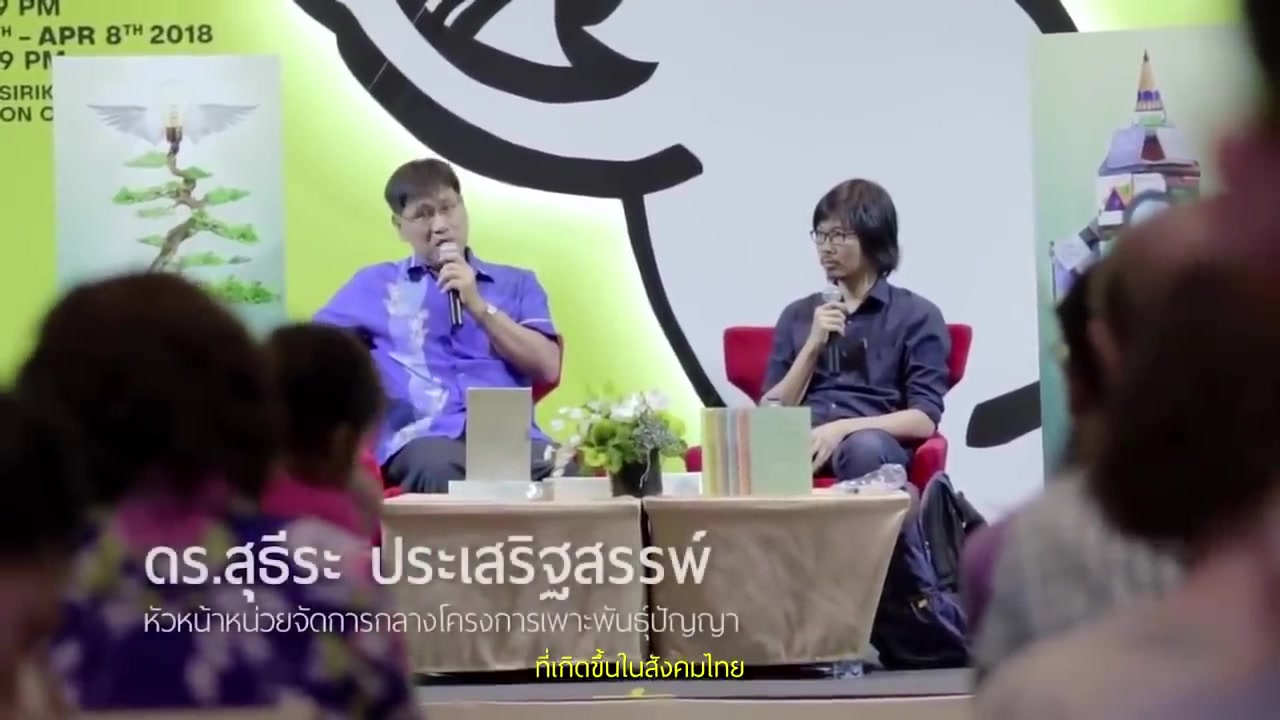text-label: (139, 524, 719, 607), (141, 600, 743, 641), (534, 643, 752, 681)
